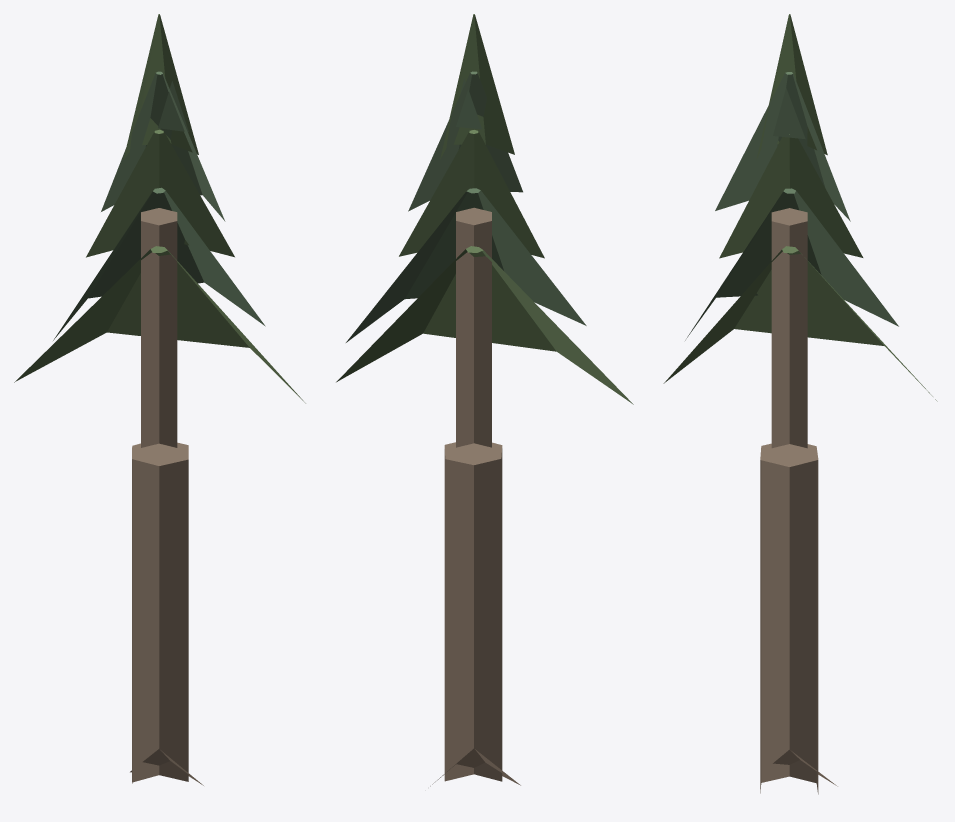
File: shu.hongpi@subadult__spring.glb
3 views of the same model, side by side, from view 1: azimuth 30°, elevation 25°; view 2: azimuth 150°, elevation 25°; view 3: azimuth 270°, elevation 25° (orthographic).
Parts seen in each view (by area): view 1: shu.hongpi@subadult__spring; view 2: shu.hongpi@subadult__spring; view 3: shu.hongpi@subadult__spring.
Part boxes in pixels (x1,y1,x2,y2): shu.hongpi@subadult__spring: (14,14,305,785); shu.hongpi@subadult__spring: (336,14,633,786); shu.hongpi@subadult__spring: (663,14,937,794).
Bounding box in the file's own units: 3.6 × 10.76 × 3.49.
